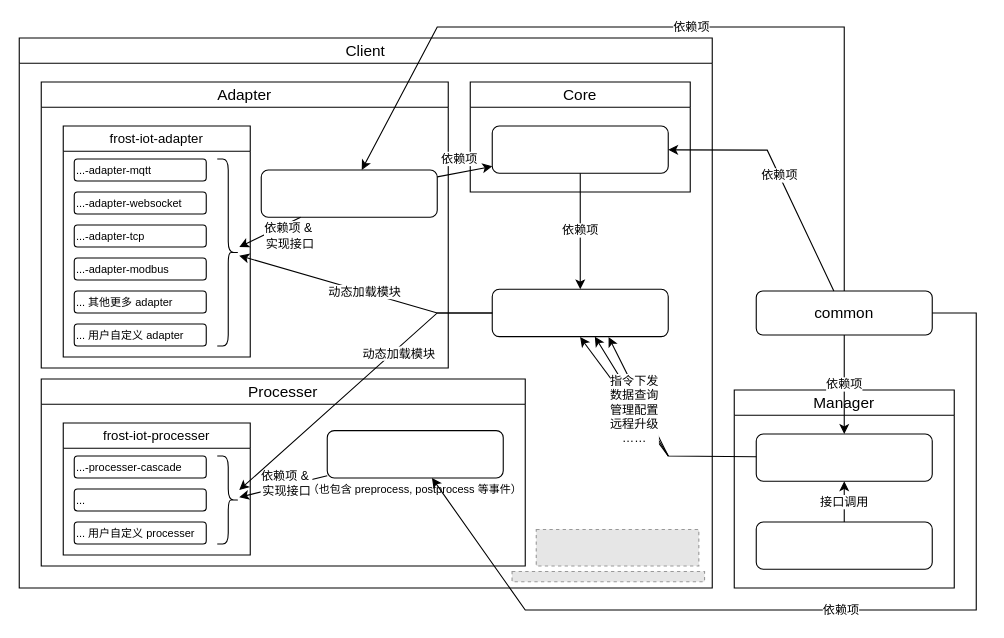
The diagram is 1004 pixels wide and 638 high, and some of its shapes have lost their labels. Grey dashed boxes stand in for pictures. Each missing label, with the centre of its shape:
"frost-iot- adapter-sdk adapter 通用逻辑及接口" goes at pixel 348 193.
"frost-iot- client" goes at pixel 579 312.
"frost-iot- core core 核心逻辑" goes at pixel 579 149.
"frost-iot- processer-sdk processer 通用逻辑及接口" goes at pixel 414 454.
"manager/backend 管理平台后端" goes at pixel 843 457.
"manager/frontend 管理平台前端" goes at pixel 843 545.
